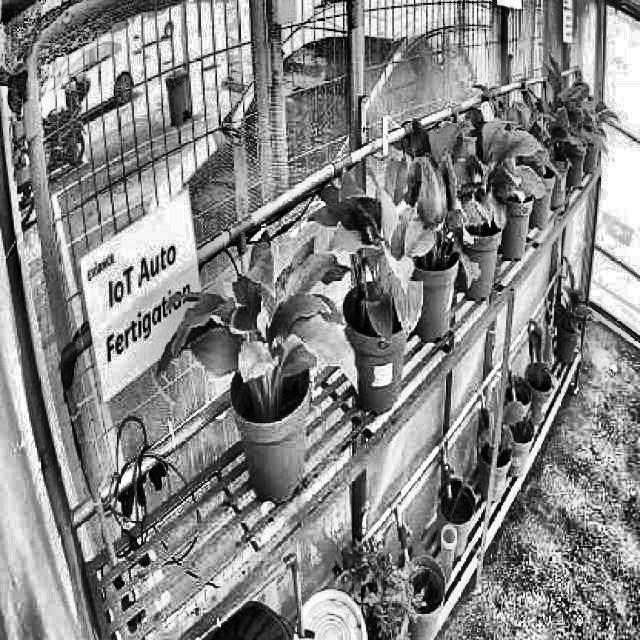plants: (158, 228, 354, 416), (316, 180, 422, 351), (428, 103, 557, 224), (383, 138, 482, 291)
